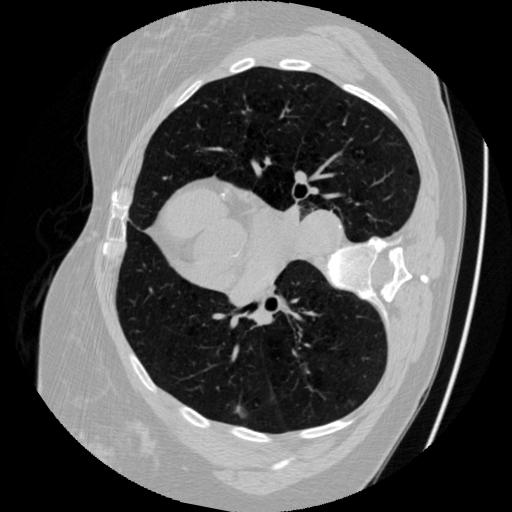nodule: (232, 404, 250, 422)
